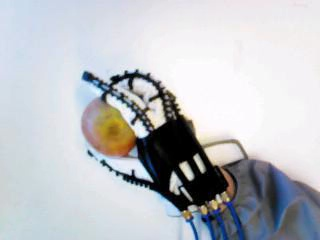apple: (81, 94, 137, 157)
hand: (78, 69, 226, 217)
